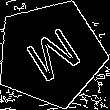M_SE: (17, 20, 84, 87)
